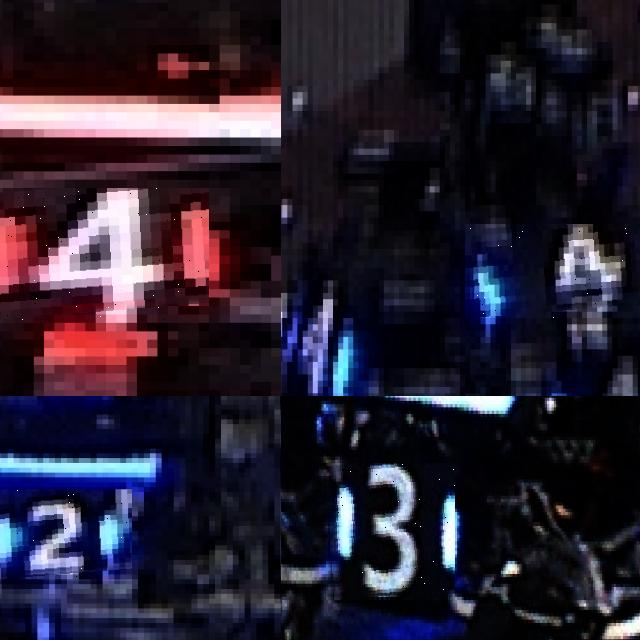B2: (0, 489, 132, 581)
B3: (326, 463, 455, 600)
B4: (465, 224, 640, 318), (281, 268, 368, 396), (541, 355, 640, 396)
R4: (0, 188, 209, 322)
